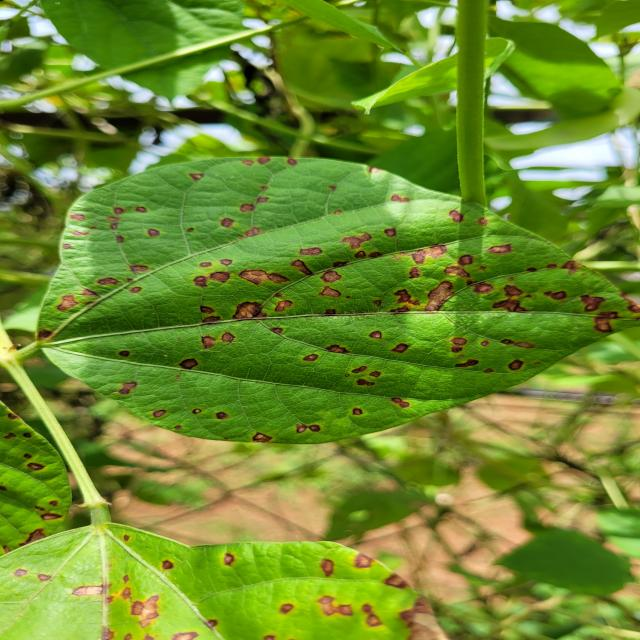Dolicos bean_cercospora leaf spot: (26, 151, 630, 445)
